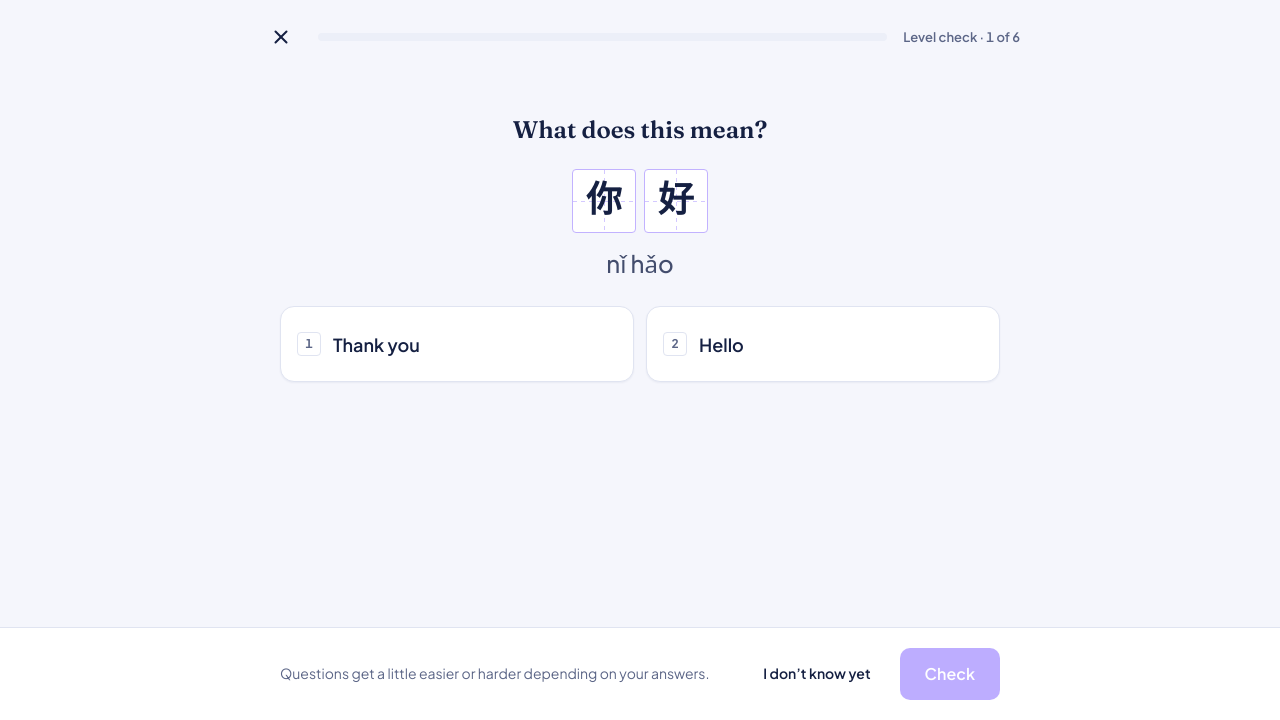
Test: StudentLevelCheckPage › starts at the plan’s level and says the plan stays when the level is the same
Click the button with test id "skip": (817, 674) [742,648,892,700]
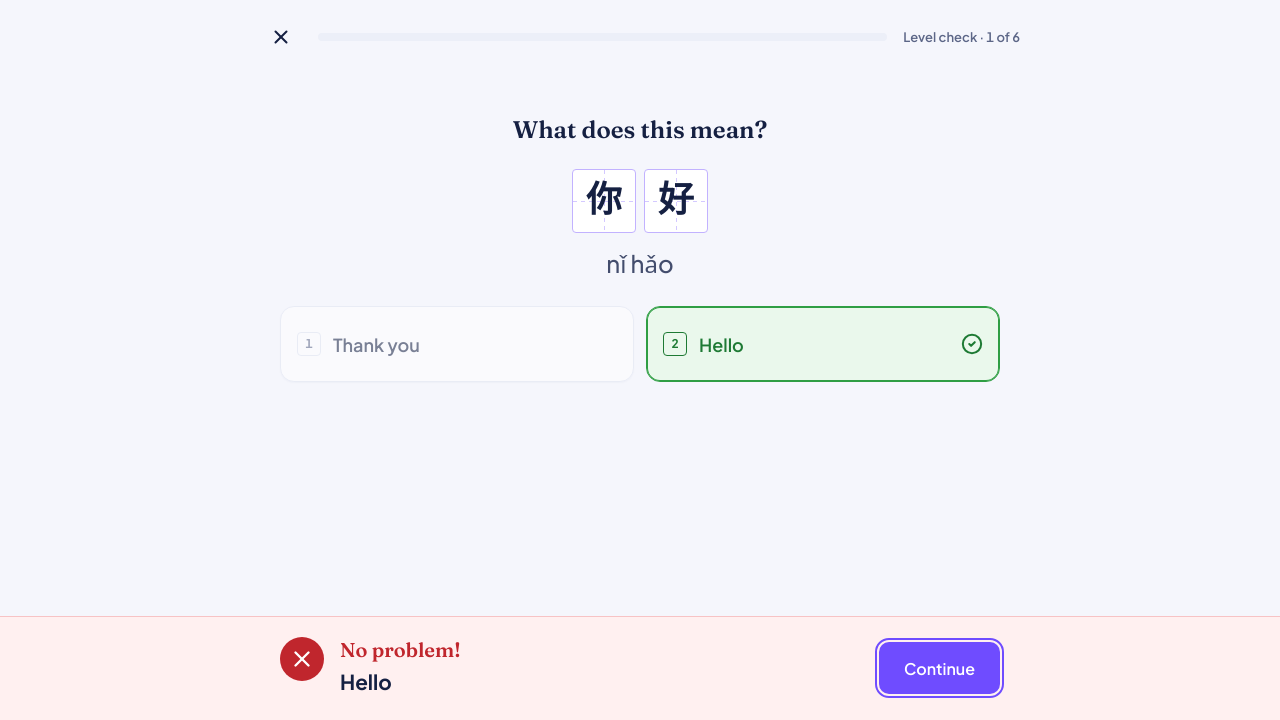
Check: the element with test id "check-bar" shows "No problem!", box [340,637,461,662]
Click the button with test id "continue": (939, 668) [879,642,1000,694]
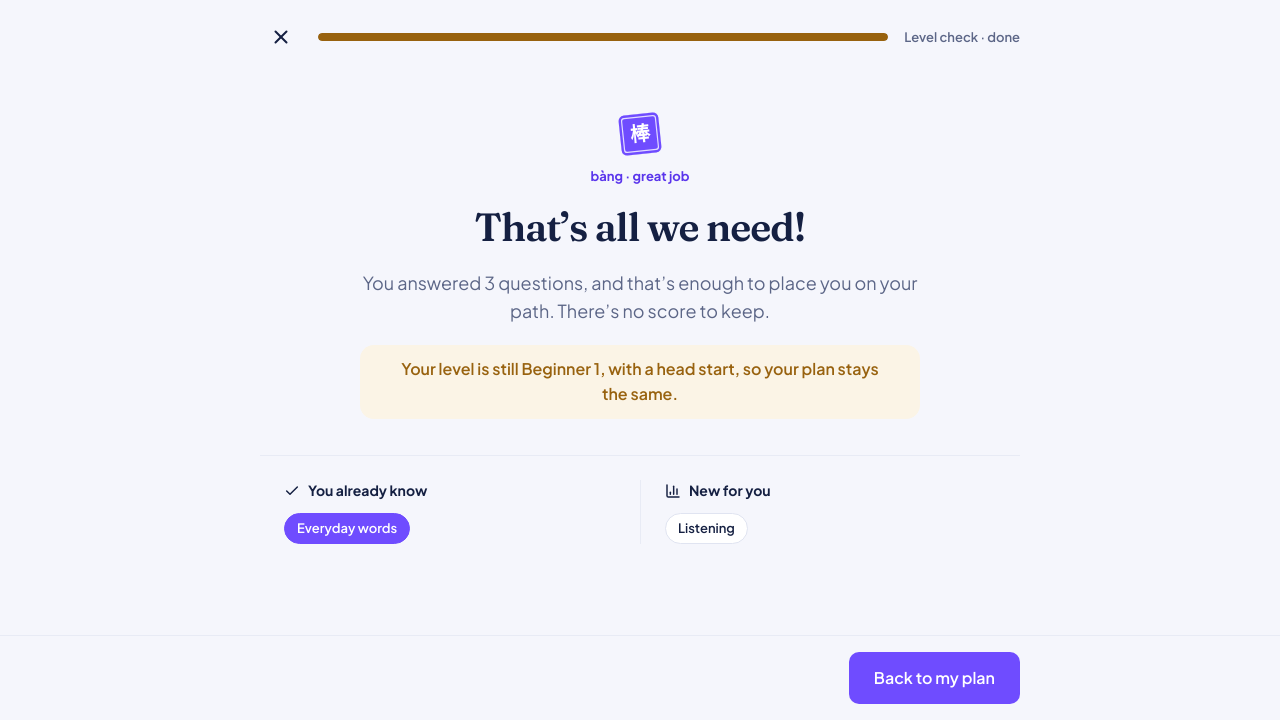
Check: the text with test id "retake-outcome" reads "Your level is still Beginner 1, with a head start, so your plan stays the same.", box [401,358,879,404]
